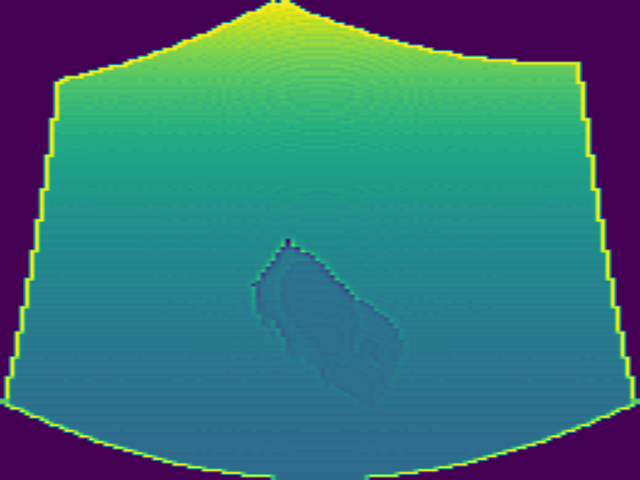car_0027: (251, 241, 406, 404)
